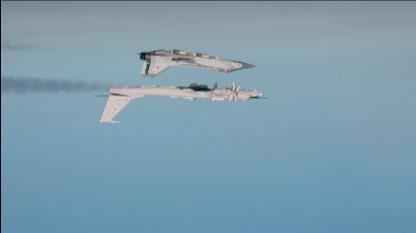Mig31: (134, 49, 262, 79)
Su57: (92, 81, 268, 122)
